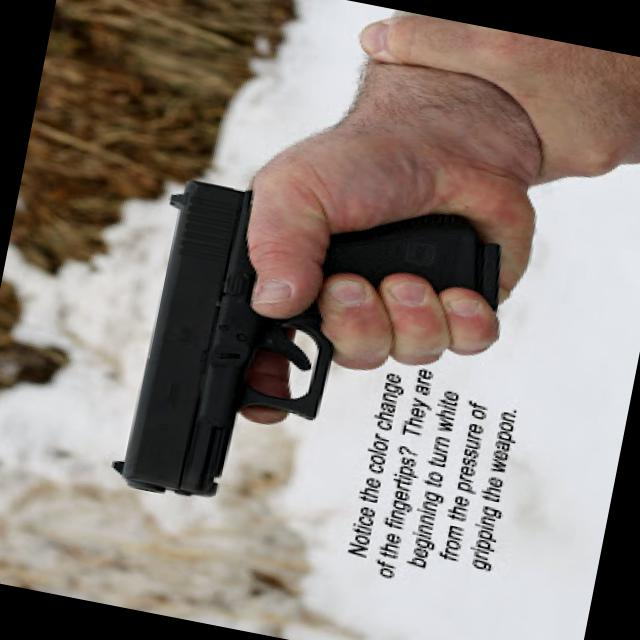handgun: (102, 161, 506, 552)
